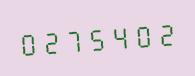five: (86, 20, 108, 55)
four: (109, 19, 131, 53)
seven: (63, 22, 85, 56)
two: (155, 15, 177, 50), (40, 24, 62, 58)
zero: (17, 25, 39, 59), (132, 17, 154, 51)
